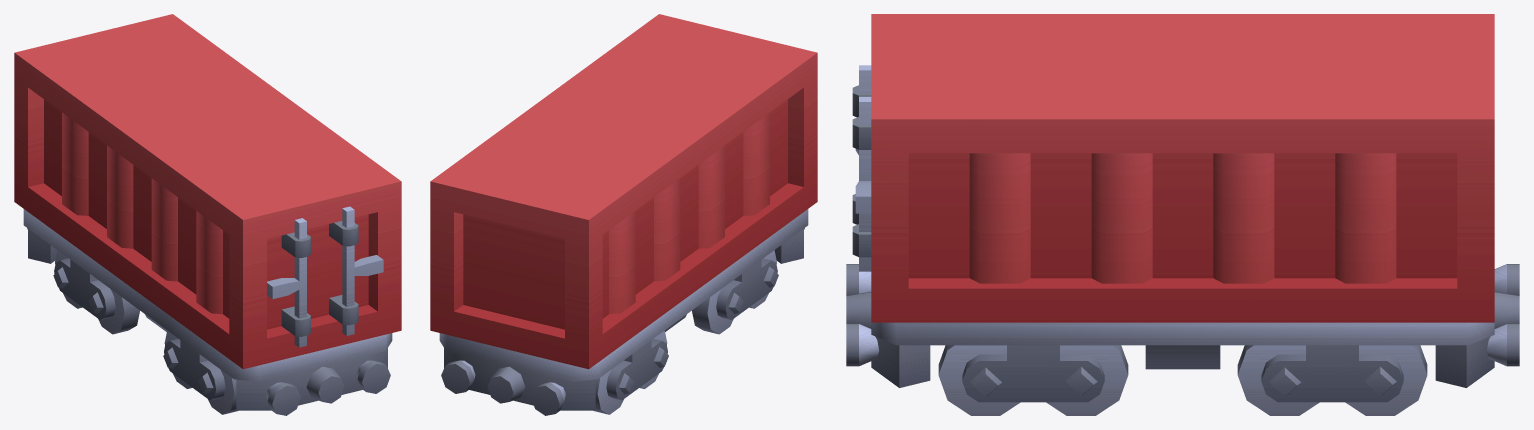
File: train-carriage-container-red.glb
The picture shows the model from 3 angles, left to right: view 1: azimuth 30°, elevation 25°; view 2: azimuth 150°, elevation 25°; view 3: azimuth 270°, elevation 25°; orthographic projection. The views are drawn at different scales.
Parts seen in each view (by area): view 1: cargo, train-carriage-container-red, wheels-back, wheels-front; view 2: cargo, train-carriage-container-red, wheels-front, wheels-back; view 3: cargo, train-carriage-container-red, wheels-back, wheels-front.
Boxes of the visible parts, bbox=[...] form: cargo: bbox=[14, 14, 401, 369]; train-carriage-container-red: bbox=[23, 209, 392, 415]; wheels-back: bbox=[53, 250, 139, 334]; wheels-front: bbox=[163, 331, 238, 414]; cargo: bbox=[430, 14, 817, 369]; train-carriage-container-red: bbox=[439, 209, 808, 415]; wheels-front: bbox=[692, 250, 778, 334]; wheels-back: bbox=[593, 331, 668, 414]; cargo: bbox=[852, 14, 1494, 322]; train-carriage-container-red: bbox=[846, 264, 1519, 387]; wheels-back: bbox=[1237, 345, 1427, 415]; wheels-front: bbox=[938, 345, 1128, 415].
Size of the model in its own units: 1 by 1.36 by 2.7.
1 material, 1 textured.
